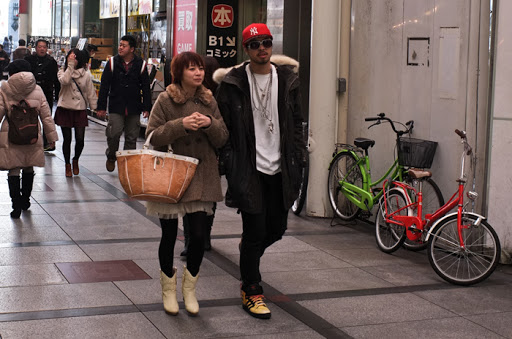person: (207, 21, 317, 323), (130, 47, 233, 321), (95, 29, 157, 173), (1, 60, 57, 218), (54, 46, 98, 182), (25, 40, 64, 102)
